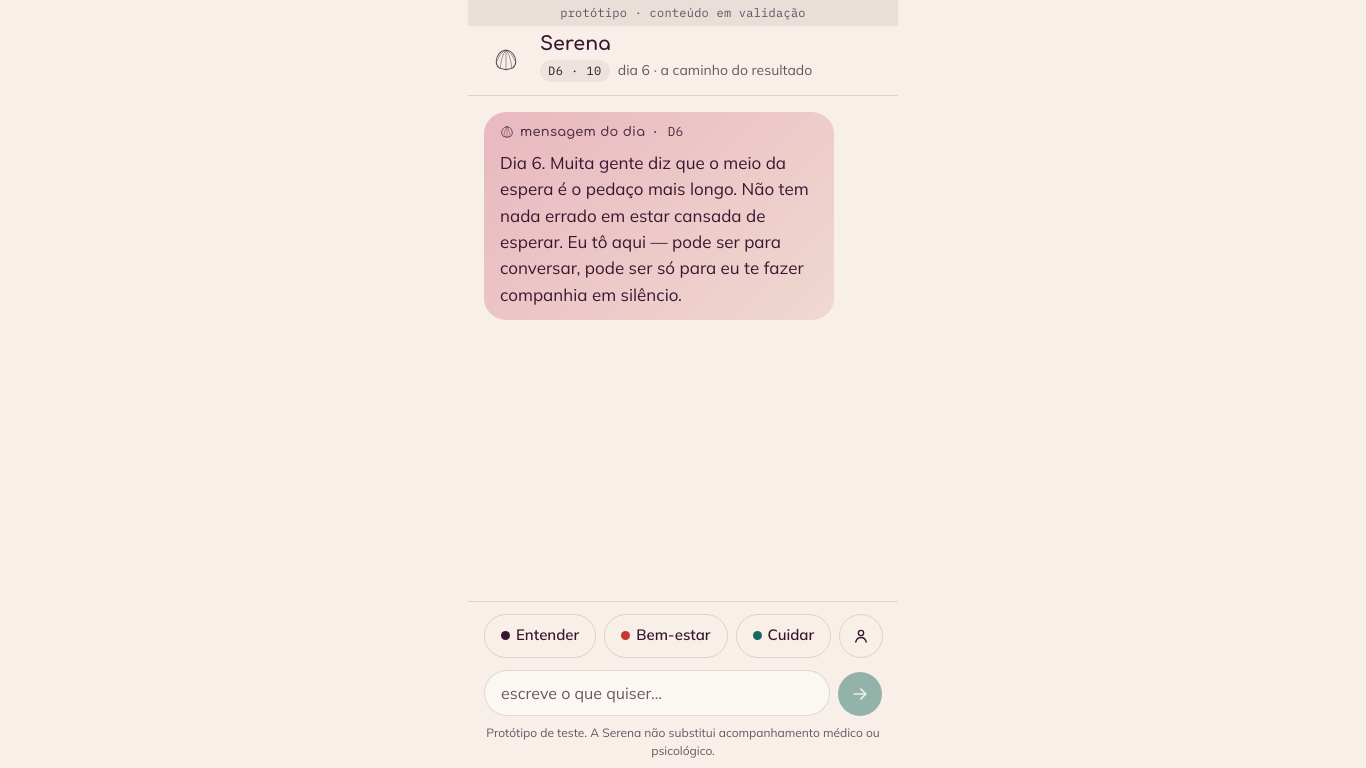
Test: trilhas (Entender · Bem-estar · Cuidar) › três chips numa linha; a tela da trilha mostra seções com explicação, base e temas
The image size is (1366, 768).
Check: the button "Entender" is shown, box [484, 614, 596, 658]
Check: the button "Cuidar" is shown, box [736, 614, 831, 658]
What coordinates should you click on to do the following:
click the button "Bem-estar"
I would click on:
 (666, 636)
Its box is [604, 614, 728, 658].
(page scrolled)
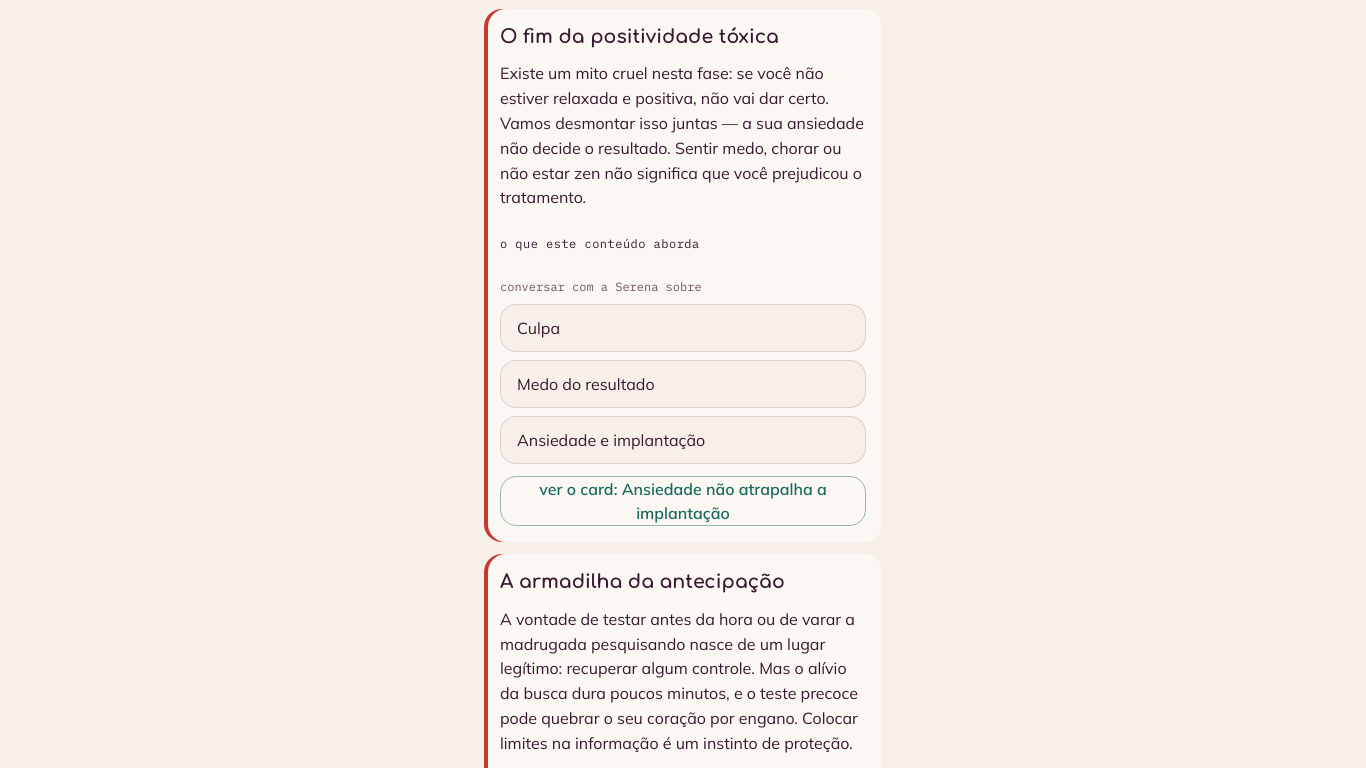
Check: the dialog named "Bem-estar · clareza começa no acolhimento" is shown, box [468, 0, 898, 767]
Check: the heading "O fim da positividade tóxica" is shown, box [500, 26, 779, 47]
What coordinates should you click on to do the following:
click the button "Medo do resultado"
I would click on:
 (586, 384)
Its box is [500, 360, 866, 408].
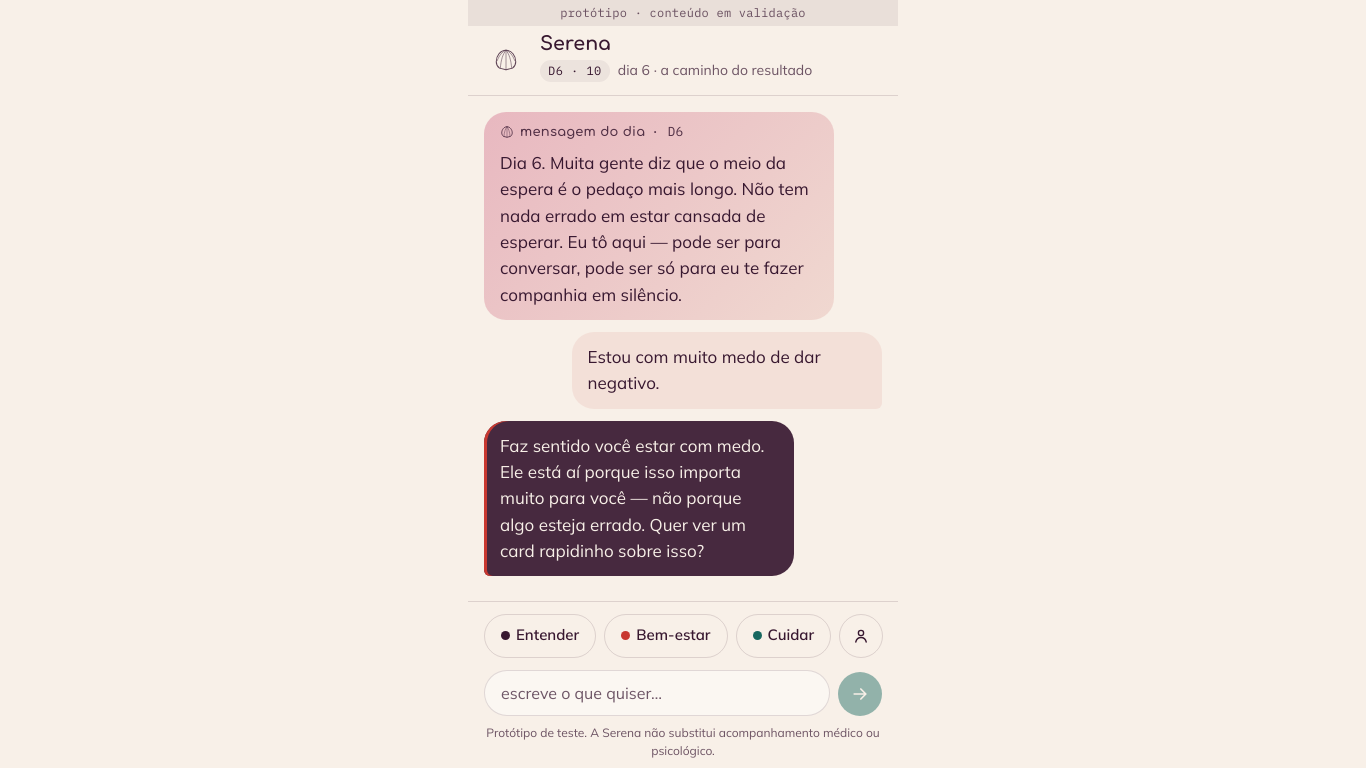
Check: the dialog is gone
Check: the text "Estou com muito medo de dar negativo." is shown, box [588, 346, 821, 393]
